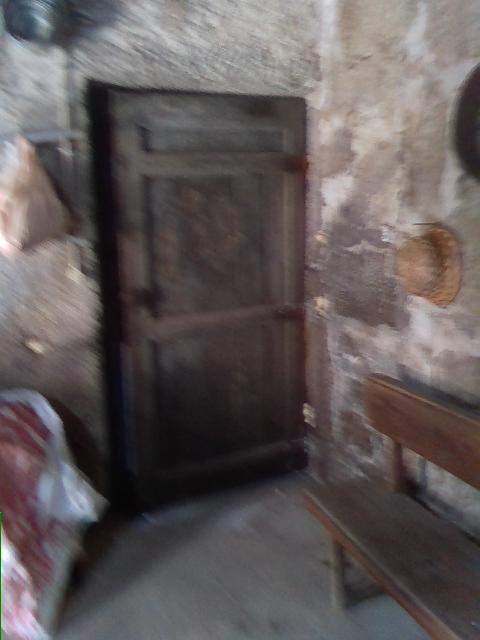door: (85, 74, 309, 518)
